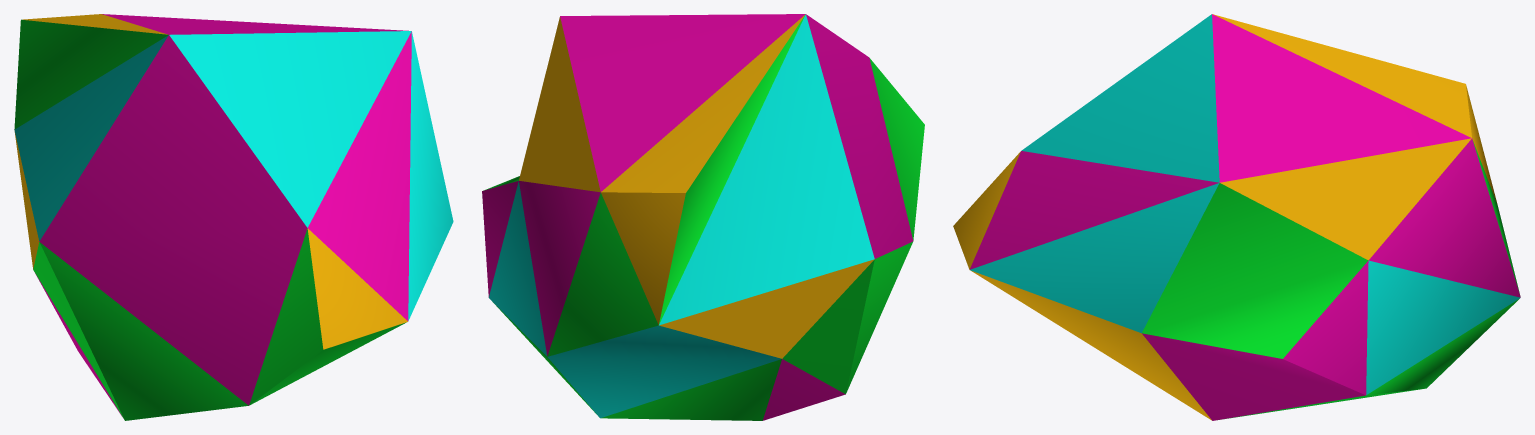
Rendered from Stone.fbx.
The picture shows the model from 3 angles, left to right: view 1: azimuth 30°, elevation 25°; view 2: azimuth 150°, elevation 25°; view 3: azimuth 270°, elevation 25°; orthographic projection. The views are drawn at different scales.
Parts seen in each view (by area): view 1: Stone; view 2: Stone; view 3: Stone.
Part boxes in pixels (bbox=[...]): Stone: bbox=[14, 14, 453, 420]; Stone: bbox=[482, 14, 924, 420]; Stone: bbox=[953, 14, 1520, 420].
Bounding box in the file's own units: 1.8 × 1.65 × 2.4.
